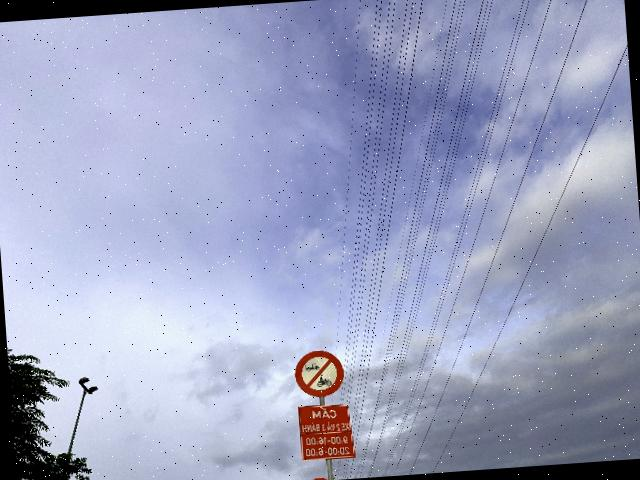cam-xe-2-banh-3-banh: (293, 348, 345, 398)
